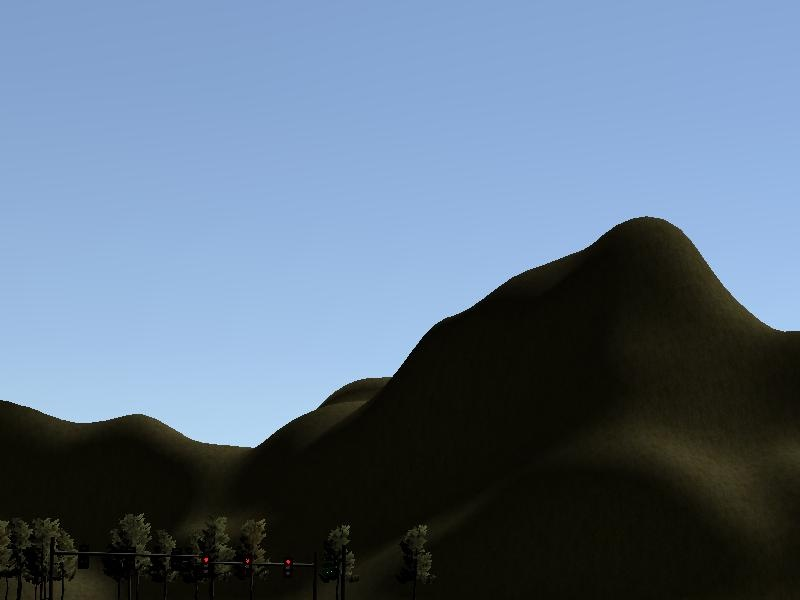RED: (198, 553, 213, 586), (280, 555, 297, 582), (241, 555, 251, 580)
